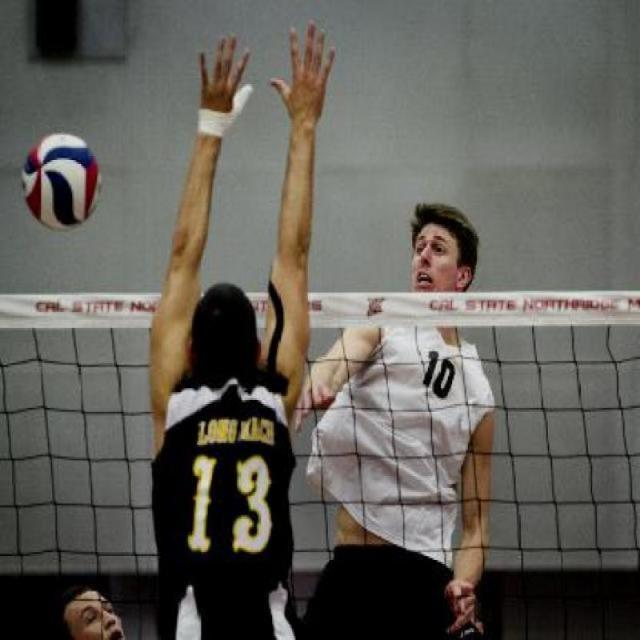volleyball: (20, 132, 100, 228)
